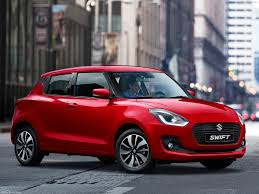Swift: (8, 64, 246, 169)
